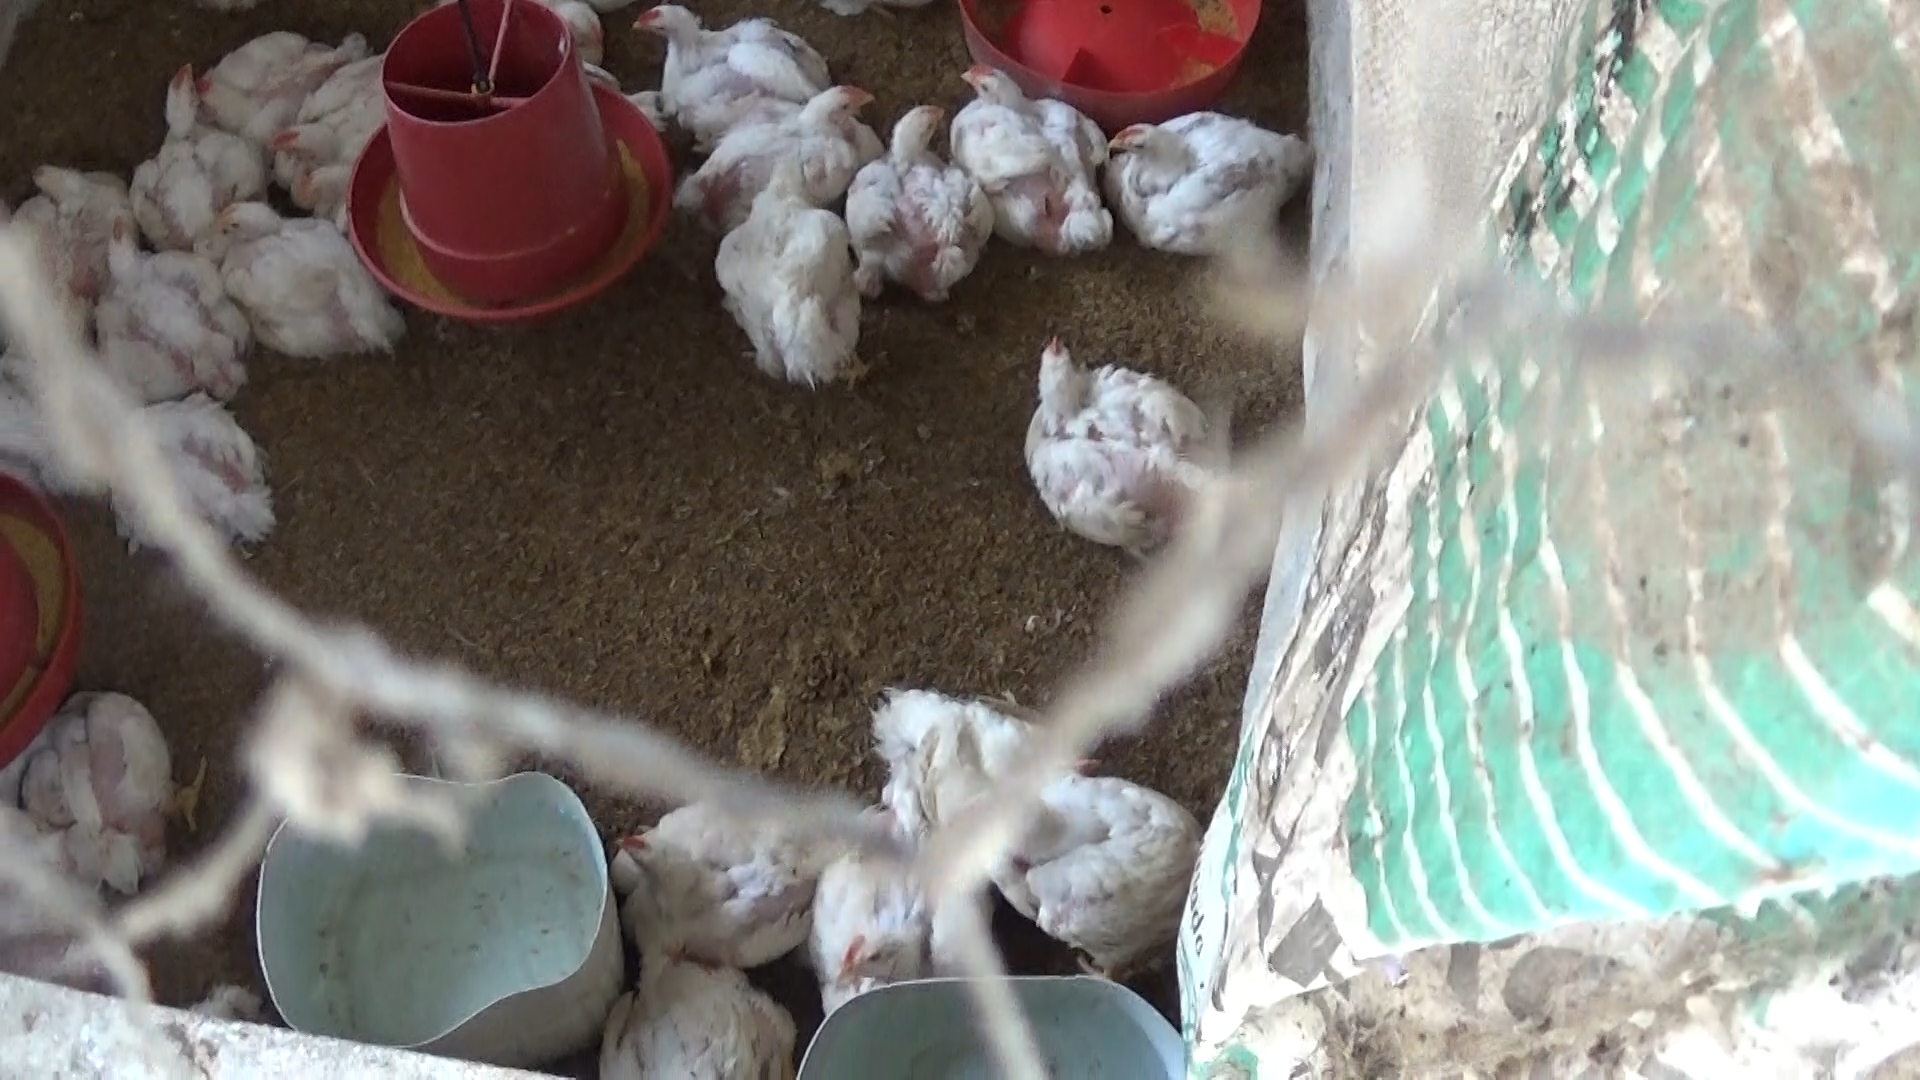Pollos: (1013, 314, 1253, 576), (976, 748, 1197, 986), (12, 674, 211, 907), (716, 142, 895, 396), (593, 775, 845, 949), (947, 49, 1121, 258), (1102, 102, 1313, 273), (200, 194, 392, 363), (673, 76, 887, 225), (76, 214, 255, 388), (852, 98, 985, 301), (622, 0, 836, 123), (775, 843, 931, 1009), (117, 62, 256, 237), (262, 36, 392, 200), (196, 15, 360, 123), (7, 138, 145, 241)
